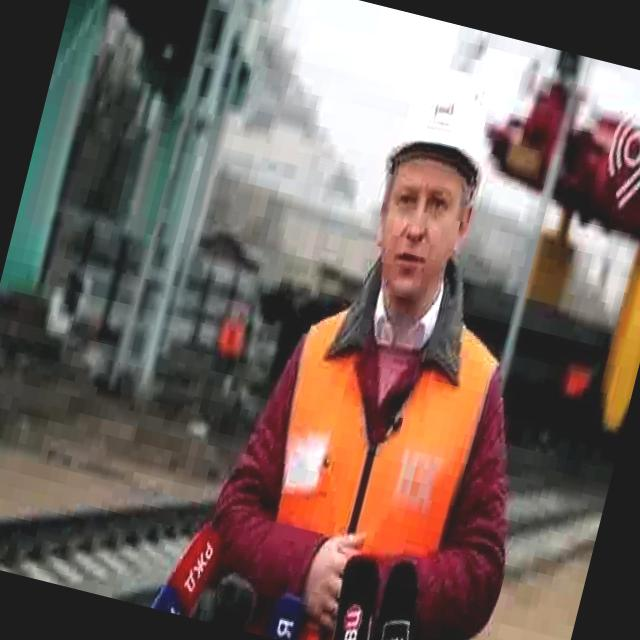vest: (230, 278, 523, 640)
